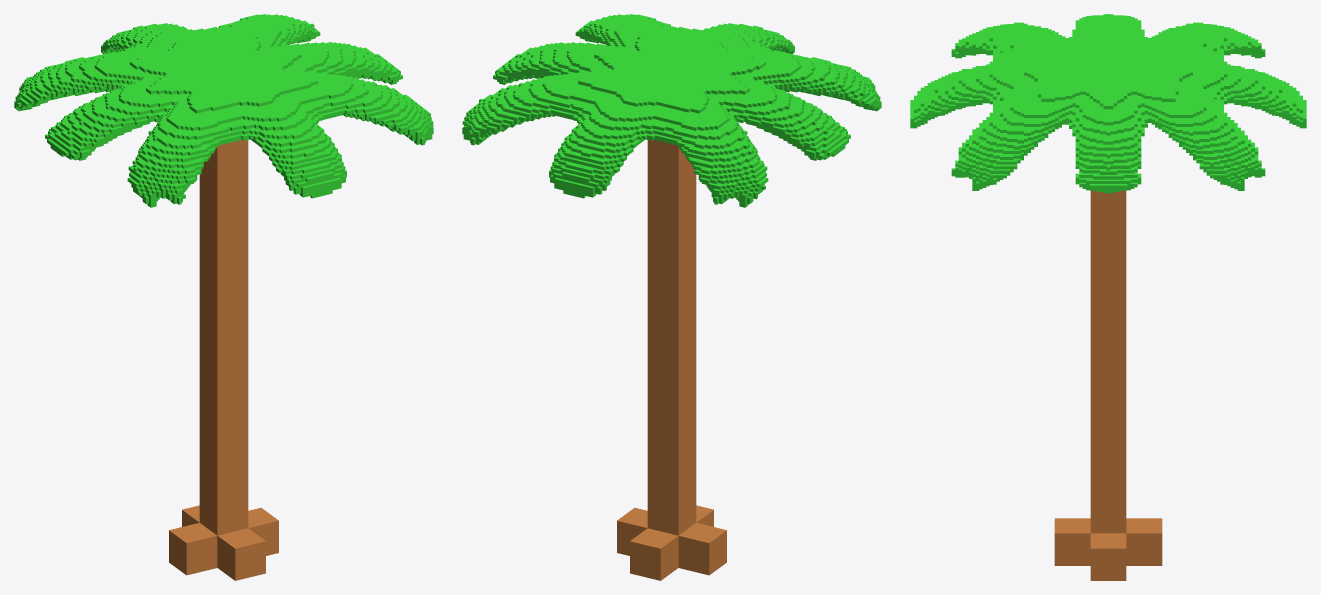
Rendered from tree a.fbx.
3 renders of one model, left to right at view 1: azimuth 30°, elevation 25°; view 2: azimuth 150°, elevation 25°; view 3: azimuth 270°, elevation 25°, orthographic.
Parts seen in each view (by area): view 1: tree A lv; view 2: tree A lv; view 3: tree A lv.
Part boxes in pixels (left/top/right/bottom): tree A lv: left=14, top=14, right=433, bottom=580; tree A lv: left=462, top=14, right=881, bottom=580; tree A lv: left=910, top=14, right=1306, bottom=580.
Bounding box in the file's own units: 181 × 251 × 184.
